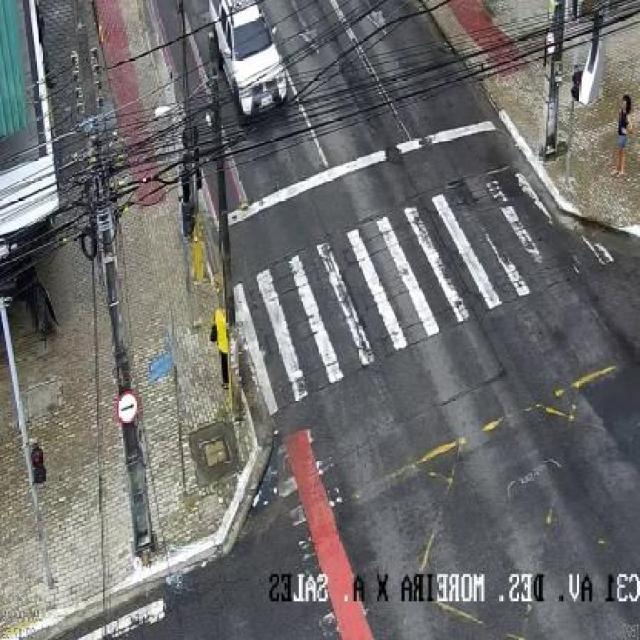Car: (208, 0, 289, 121)
